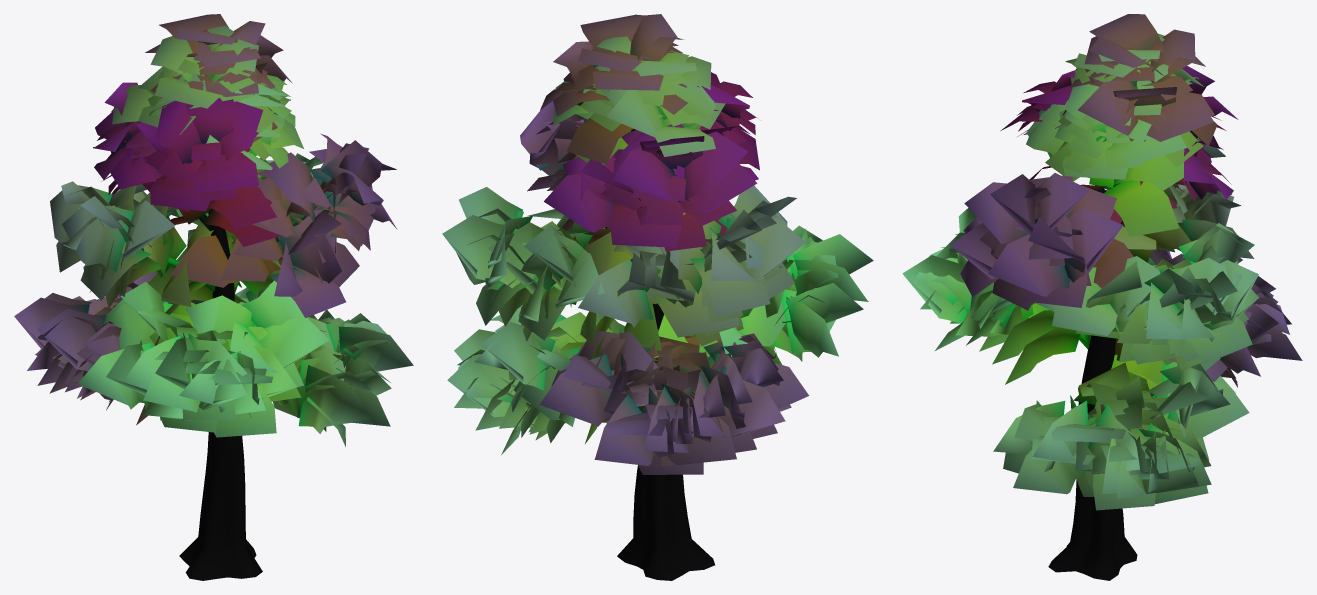
The model's file is Arbol2.fbx.
3 views of the same model, side by side, from view 1: azimuth 30°, elevation 25°; view 2: azimuth 150°, elevation 25°; view 3: azimuth 270°, elevation 25° (orthographic). The views are drawn at different scales.
Visible parts, largest first — view 1: Tree_1, Tree_0; view 2: Tree_1, Tree_0; view 3: Tree_1, Tree_0.
Part boxes in pixels (left/top/right/bottom): Tree_1: left=14, top=14, right=413, bottom=446; Tree_0: left=122, top=140, right=333, bottom=580; Tree_1: left=442, top=14, right=873, bottom=474; Tree_0: left=548, top=128, right=791, bottom=580; Tree_1: left=902, top=14, right=1302, bottom=510; Tree_0: left=1035, top=179, right=1193, bottom=580.
Size of the model in its own units: 432 by 644 by 435.
